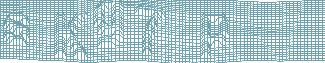7: (133, 3, 166, 54)
K: (53, 10, 90, 60)
P: (199, 12, 230, 60)
g: (93, 1, 125, 50)
s: (2, 11, 30, 47)
